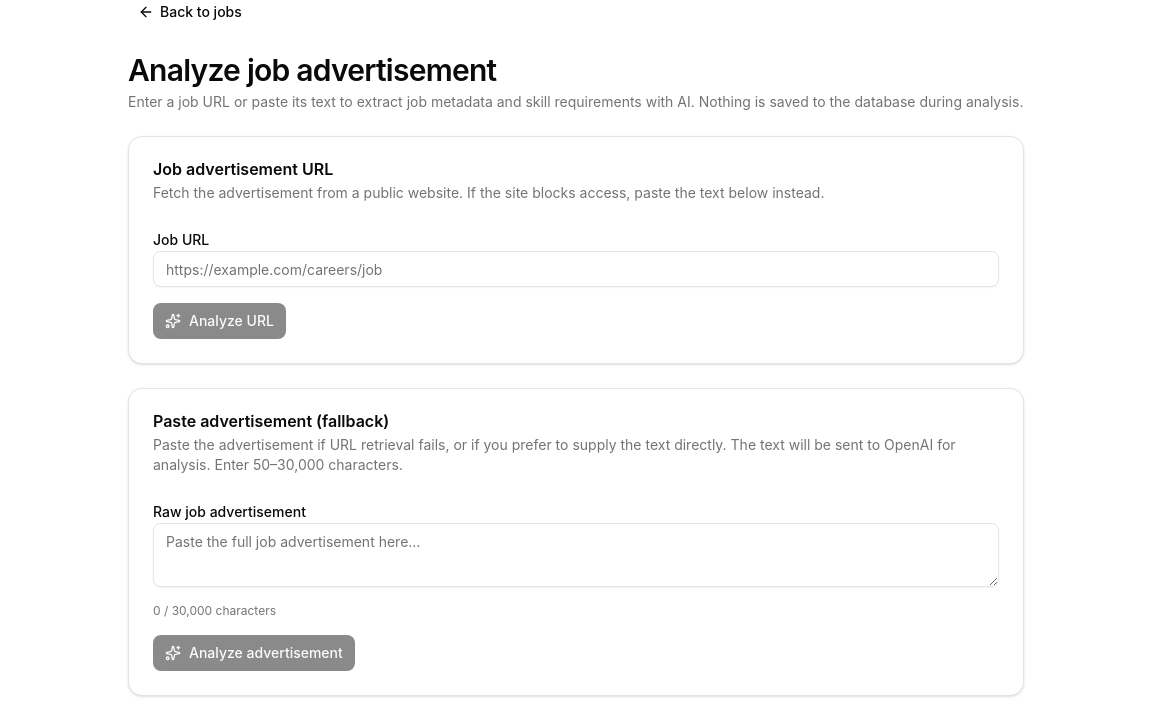
it: AnalyzeJobView (UC-09–11) › displays metadata and skills without saving a job
Type "Example Company seeks a Senior TypeScript Developer for our Copenhagen office. Full-time employment." into the text box labelled "Raw job advertisement" at (576, 555), box left=153, top=523, right=999, bottom=587
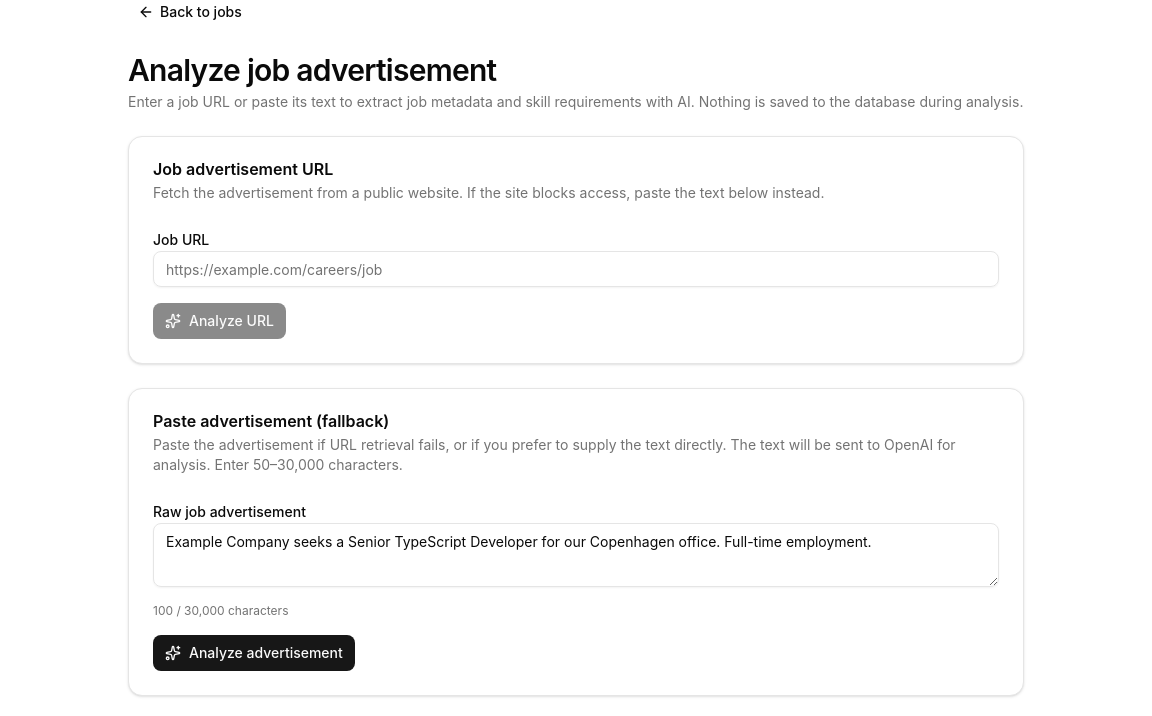
Click the button "Analyze advertisement" at (254, 653), box left=153, top=635, right=355, bottom=671
(page scrolled)
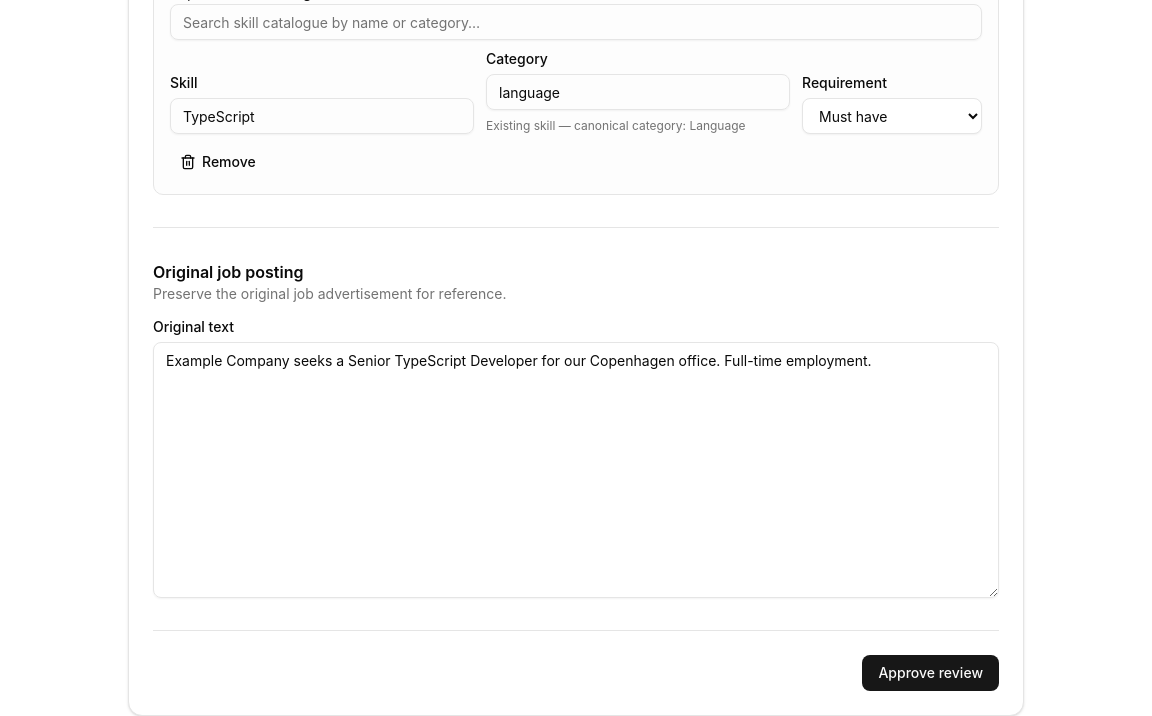
Now the text box with id "original-text" holds "Example Company seeks a Senior TypeScript Developer for our Copenhagen office. Full-time employment.", box left=153, top=342, right=999, bottom=598
